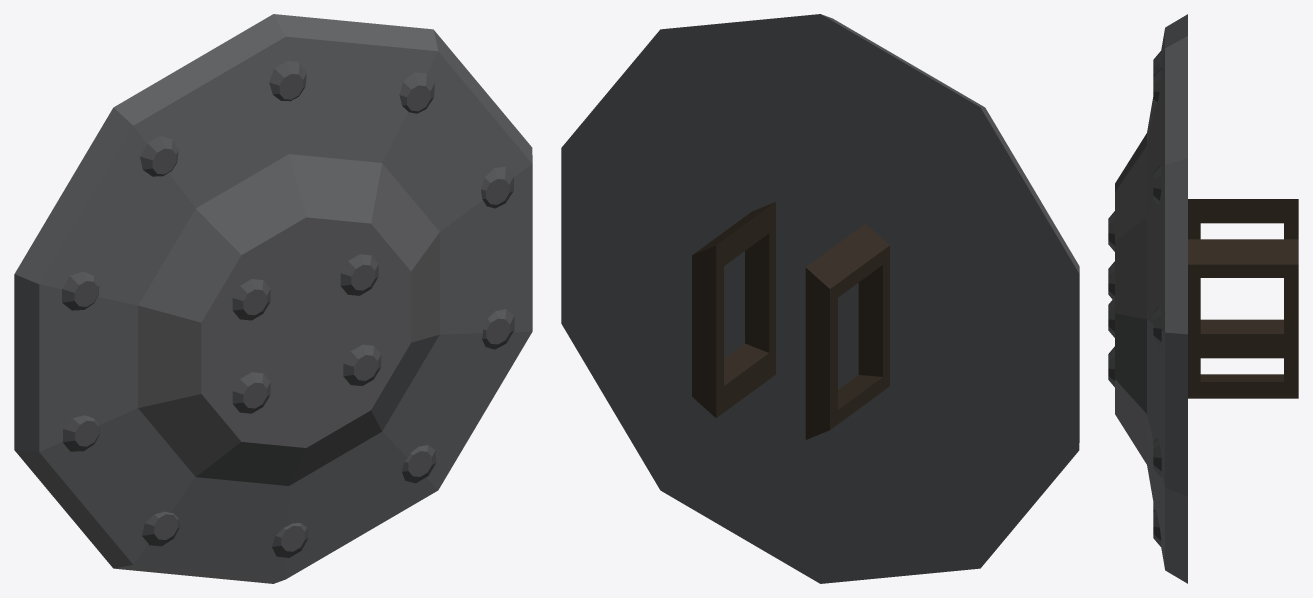
File: Shield.Buckler.glb
3 renders of one model, left to right at view 1: azimuth 30°, elevation 25°; view 2: azimuth 150°, elevation 25°; view 3: azimuth 270°, elevation 25°, orthographic. The views are drawn at different scales.
Visible parts, largest first — view 1: ShieldBuckler; view 2: ShieldBuckler; view 3: ShieldBuckler.
Part boxes in pixels (x1,y1,x2,y2): ShieldBuckler: [14, 14, 532, 583]; ShieldBuckler: [561, 14, 1079, 583]; ShieldBuckler: [1108, 14, 1298, 583].
Size of the model in its own units: 0.4414 by 0.4641 by 0.1519.
Materials: 1 (1 with a texture image).
